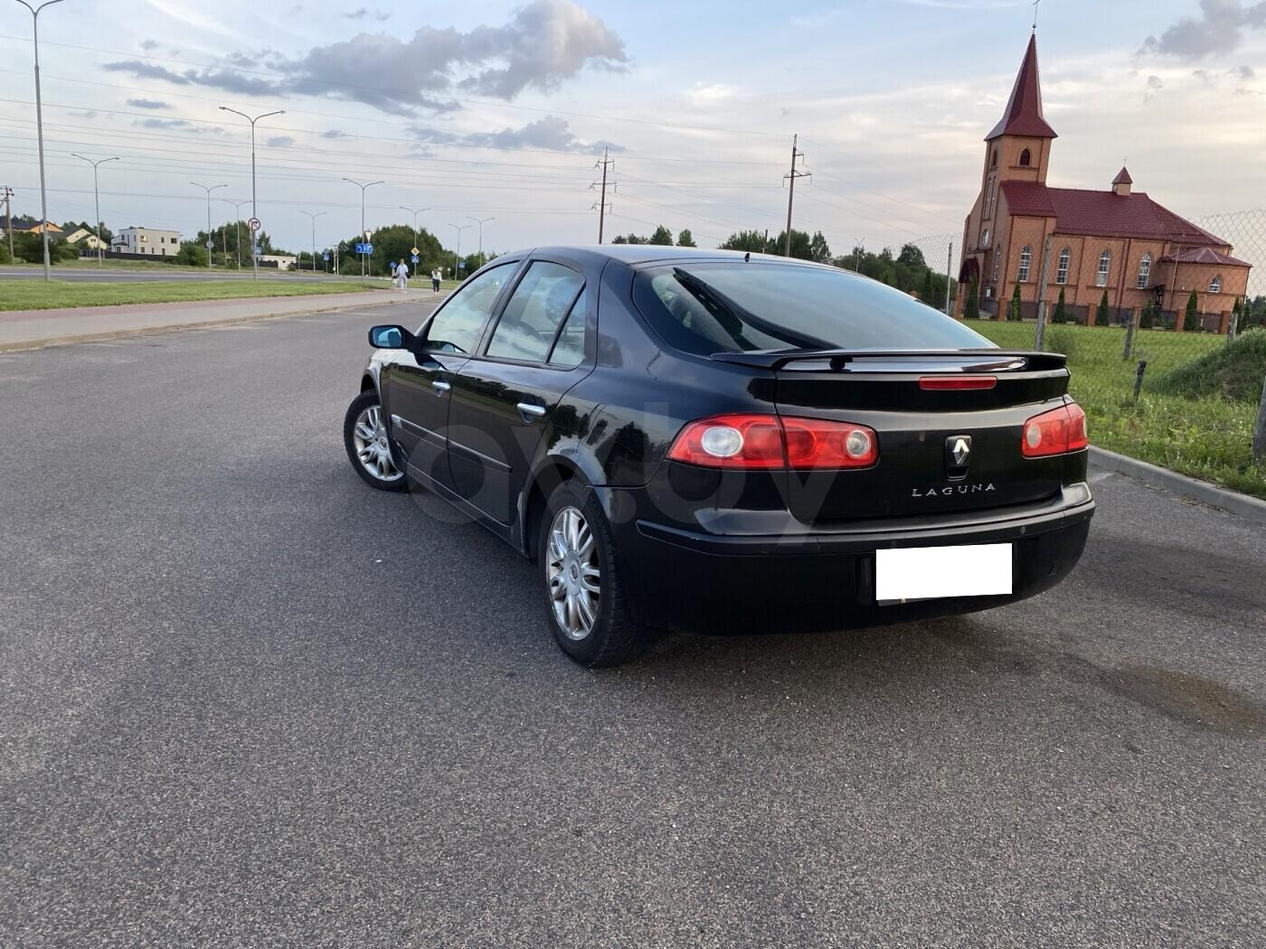Laguna_2005-2007: (349, 241, 1095, 680)
